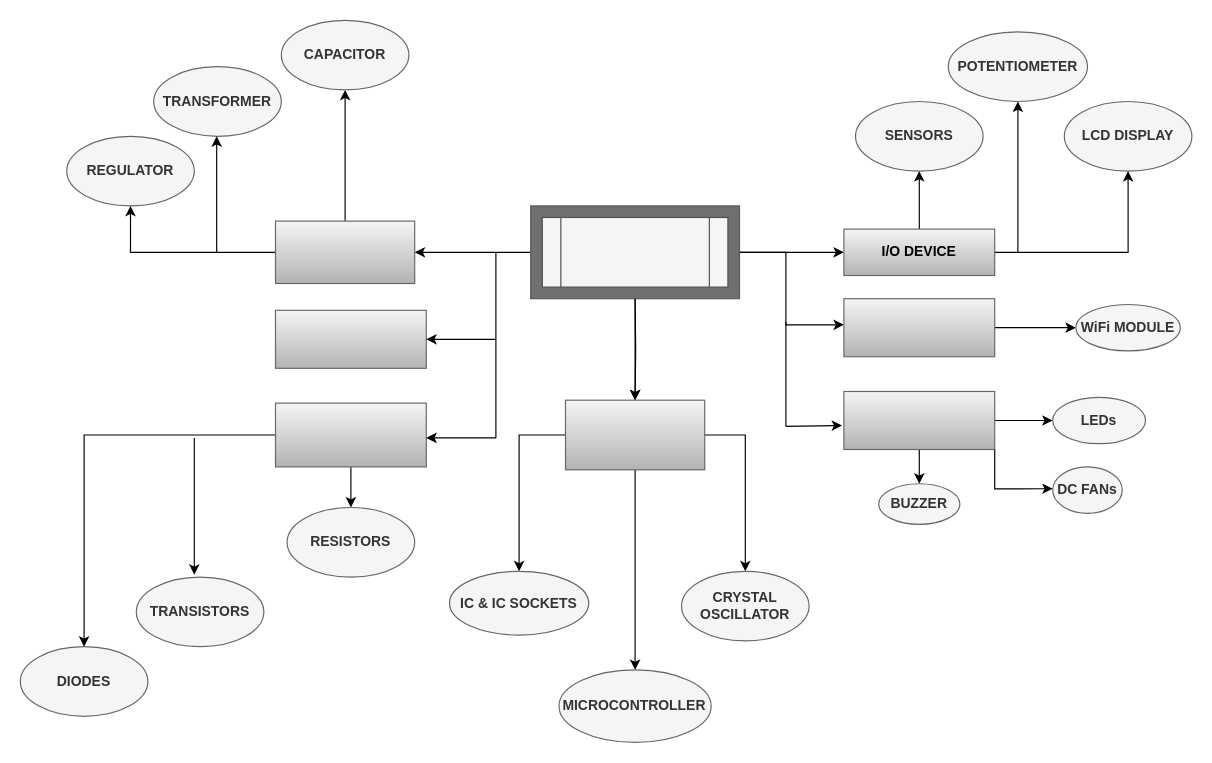
This 1212x763 diagram has some shape labels left out. The centre of each missing label's shape, as x and y in pixels:
CIRCUIT PROTECTION & CONTROL: point (350, 434)
COMPONENTS: point (634, 251)
DATA TRANSMISSION: point (919, 327)
HARDWARE & CONNECTION: point (350, 338)
INDICATOR: point (919, 419)
POWER SUPPLY: point (344, 252)
PROCESSOR: point (634, 434)
